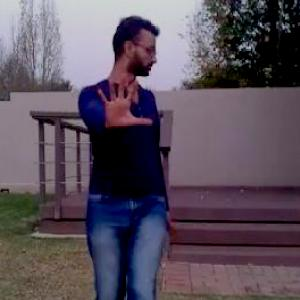follow_hand: (96, 69, 154, 131)
